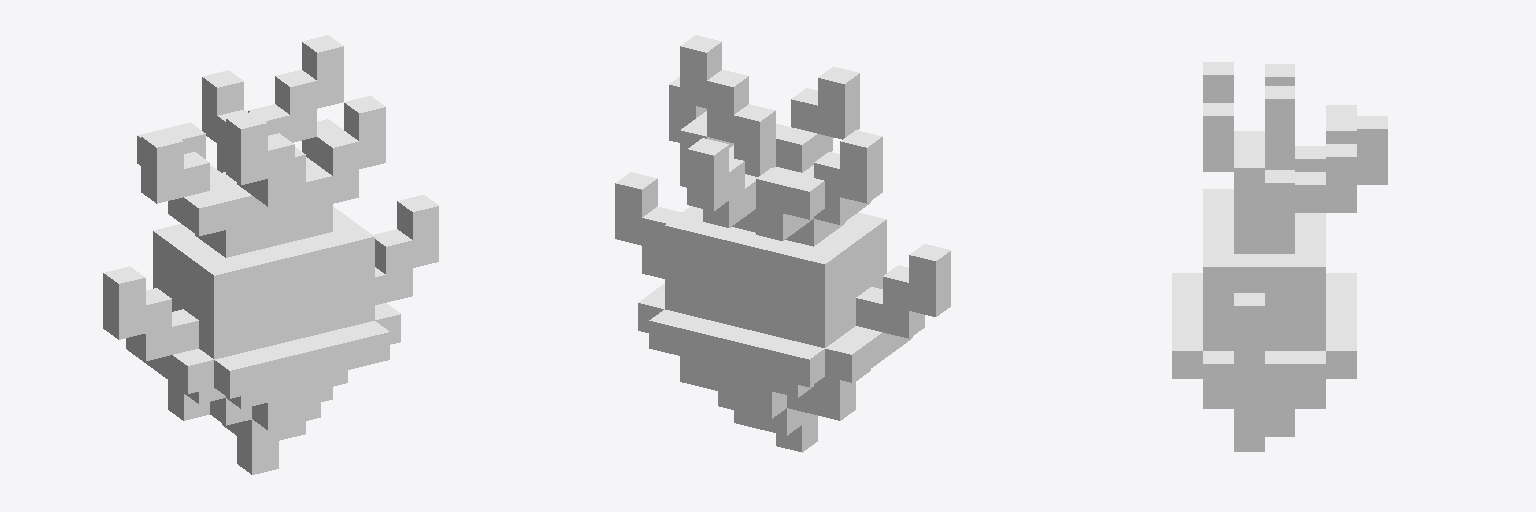
The model's file is CarrotMan.obj.
3 renders of one model, left to right at view 1: azimuth 30°, elevation 25°; view 2: azimuth 150°, elevation 25°; view 3: azimuth 270°, elevation 25°, orthographic.
Size of the model in its own units: 12 by 14 by 7.